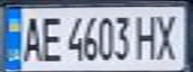0: (97, 12, 118, 62)
3: (112, 12, 136, 61)
4: (63, 11, 84, 62)
6: (81, 12, 100, 62)
A: (18, 12, 45, 63)
E: (39, 12, 63, 63)
H: (133, 11, 160, 61)
X: (151, 10, 184, 61)
